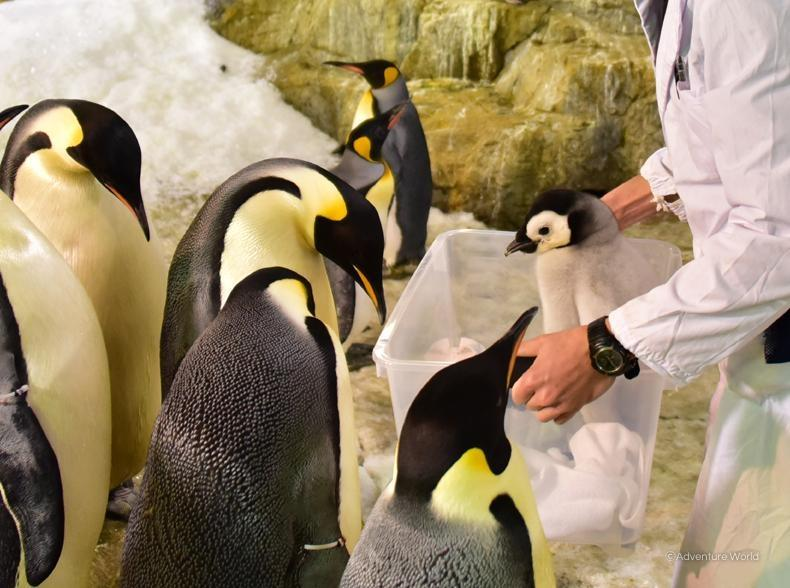Penguin: (120, 267, 360, 585), (0, 99, 166, 487), (341, 307, 555, 586), (160, 159, 383, 395), (0, 190, 111, 585), (506, 188, 660, 332), (332, 100, 408, 227), (383, 102, 432, 267), (327, 62, 408, 126)
